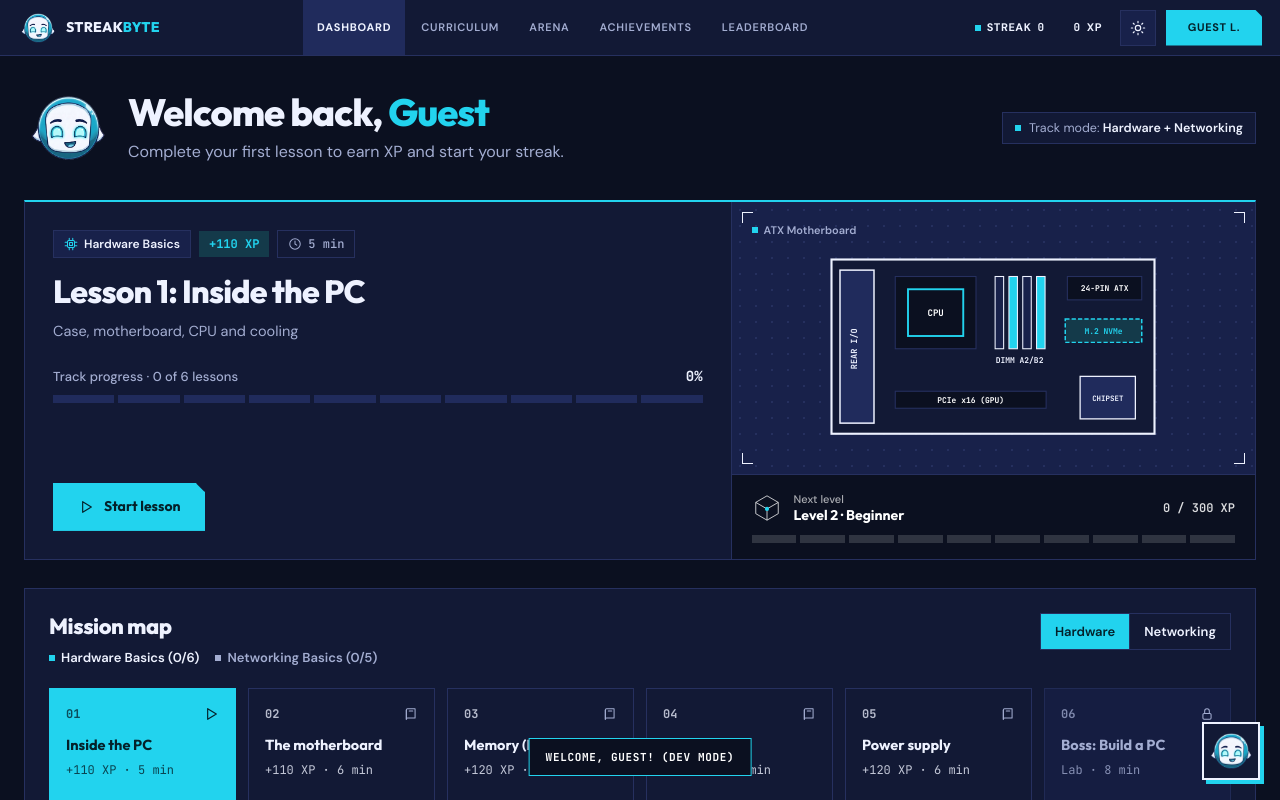
Test: App integration › renders Dashboard, navigates tabs, toggles dark/light theme, opens Session Setup into PC lab, and chats offline
The width and height of the screenshot is (1280, 800).
Later steps or results of the test are not shown.
Expected: the heading "Welcome back, Guest" is shown, [128,88,489,136]
Click the button with aria-label "0 day streak". click: coordinates (1010, 28)
box: [964,10,1056,46]
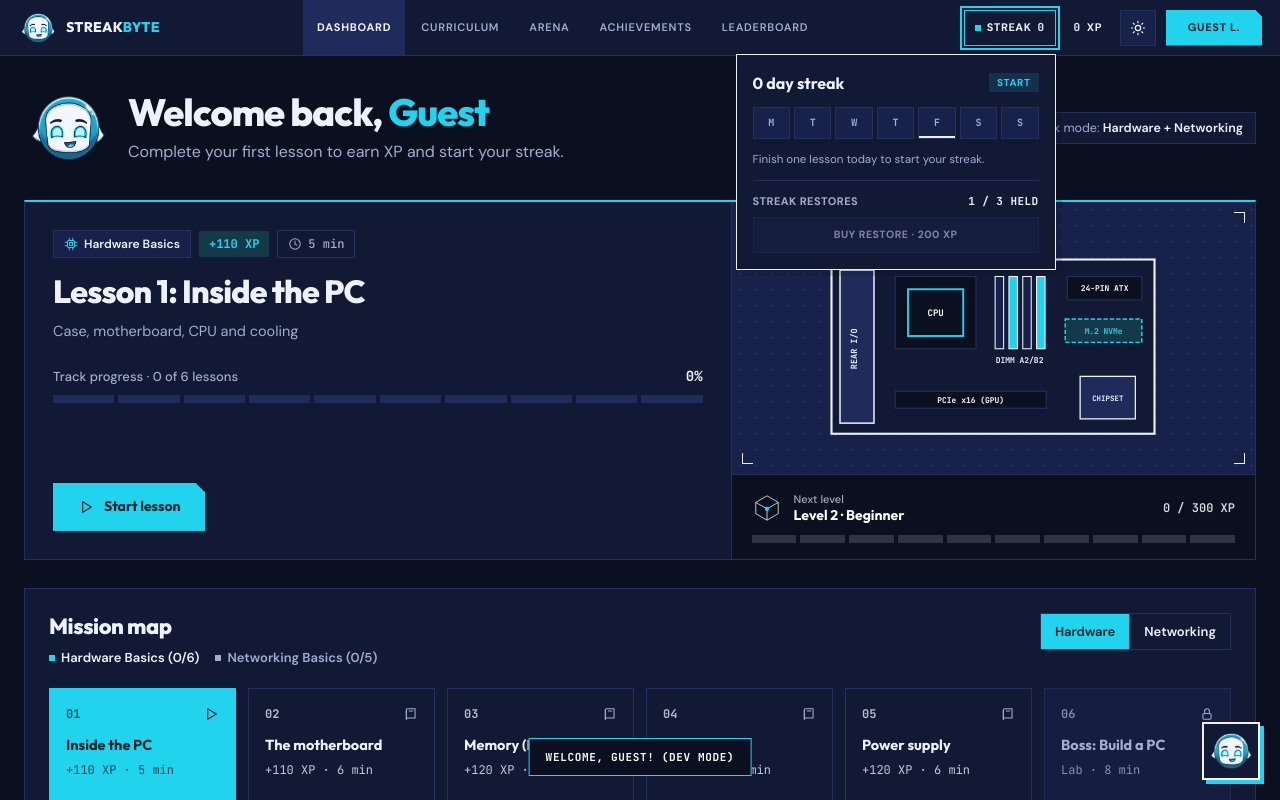
Expected: the text "Finish one lesson today to start your streak." is shown, [753,152,984,166]
